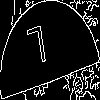L: (25, 24, 49, 76)
